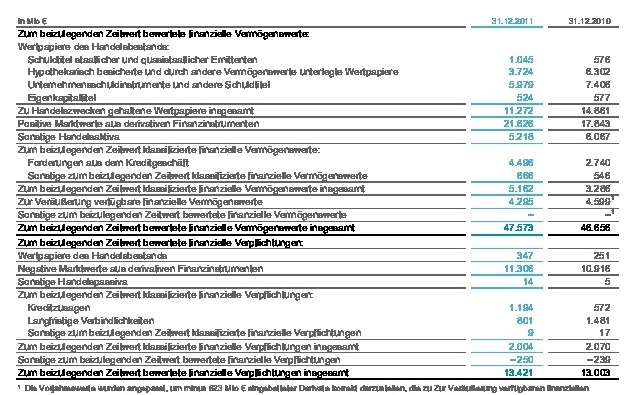table: (0, 0, 636, 395)
